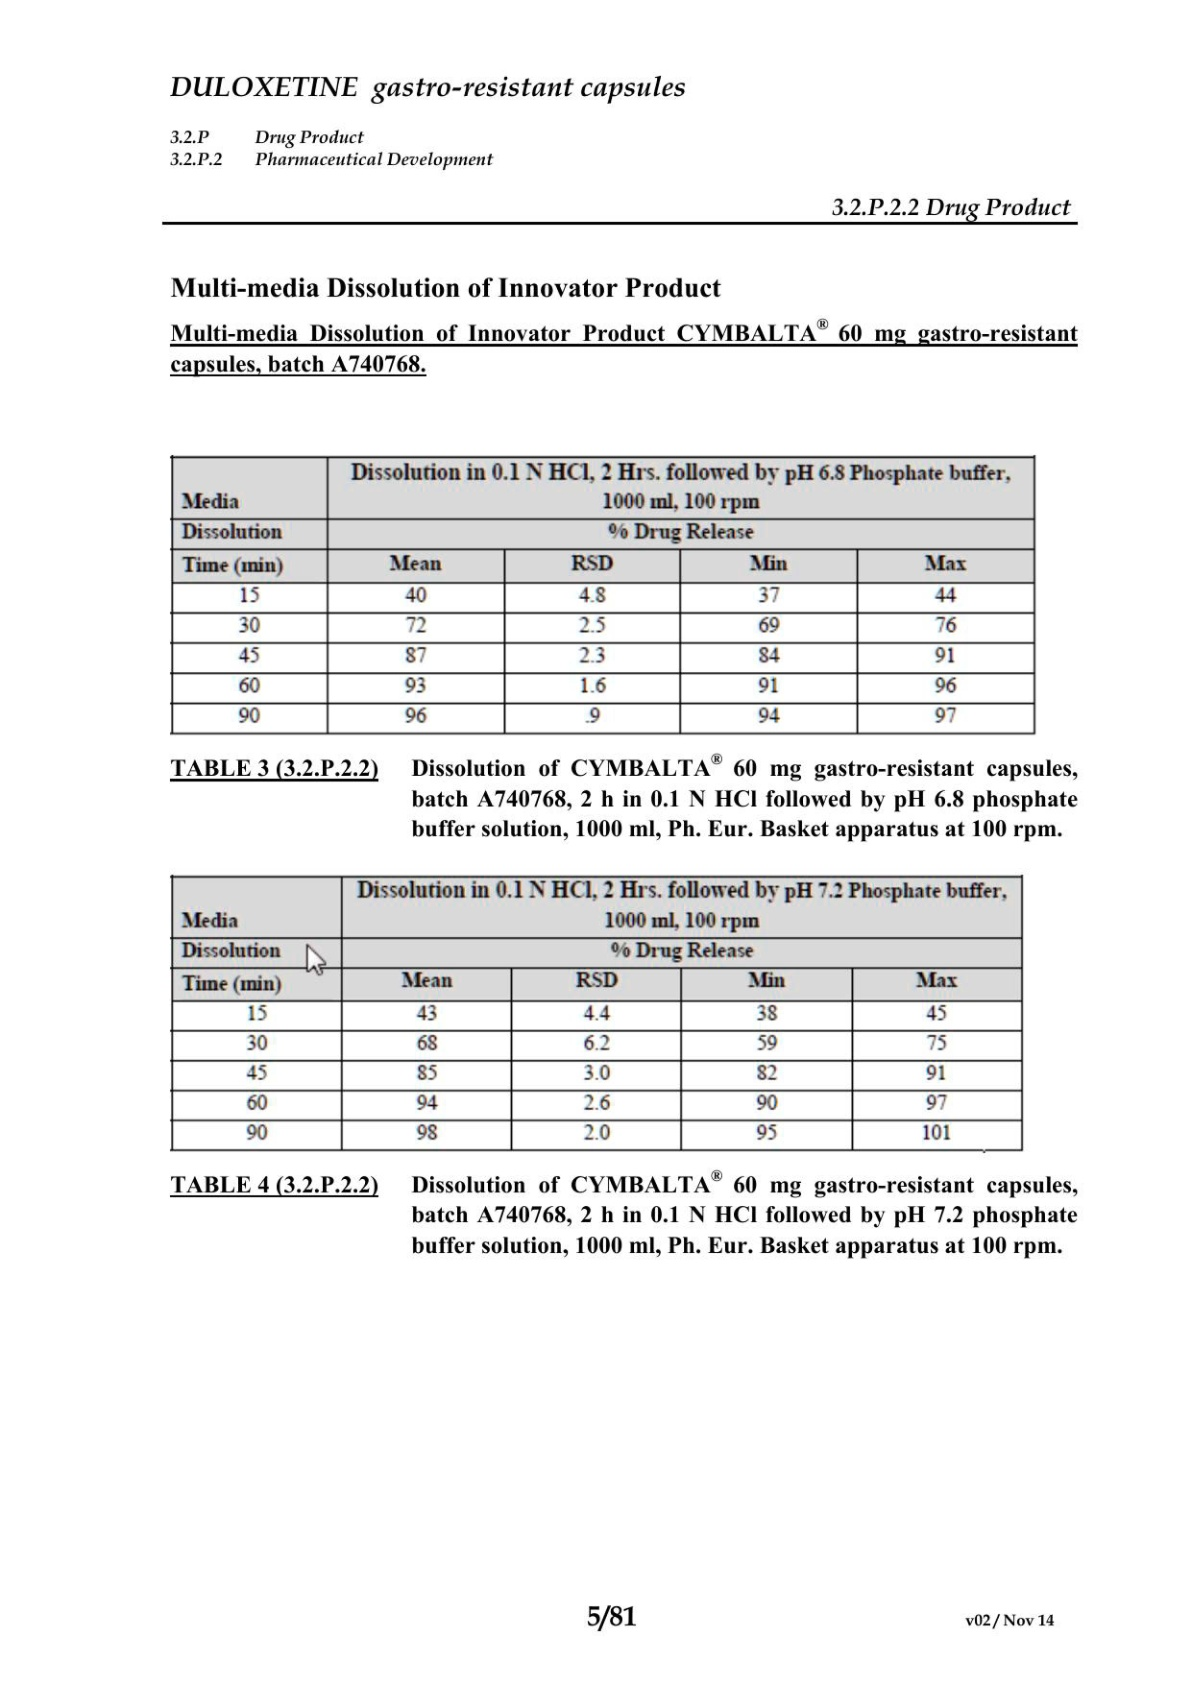merged_cells: (169, 454, 1035, 735), (169, 873, 1024, 1153)
